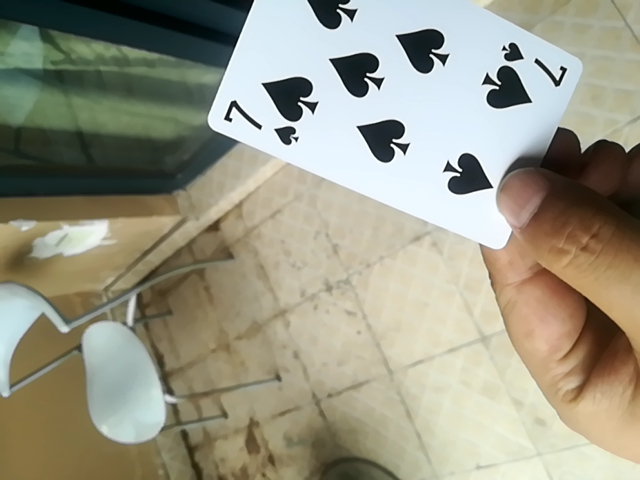ht 7: (199, 0, 600, 258)
